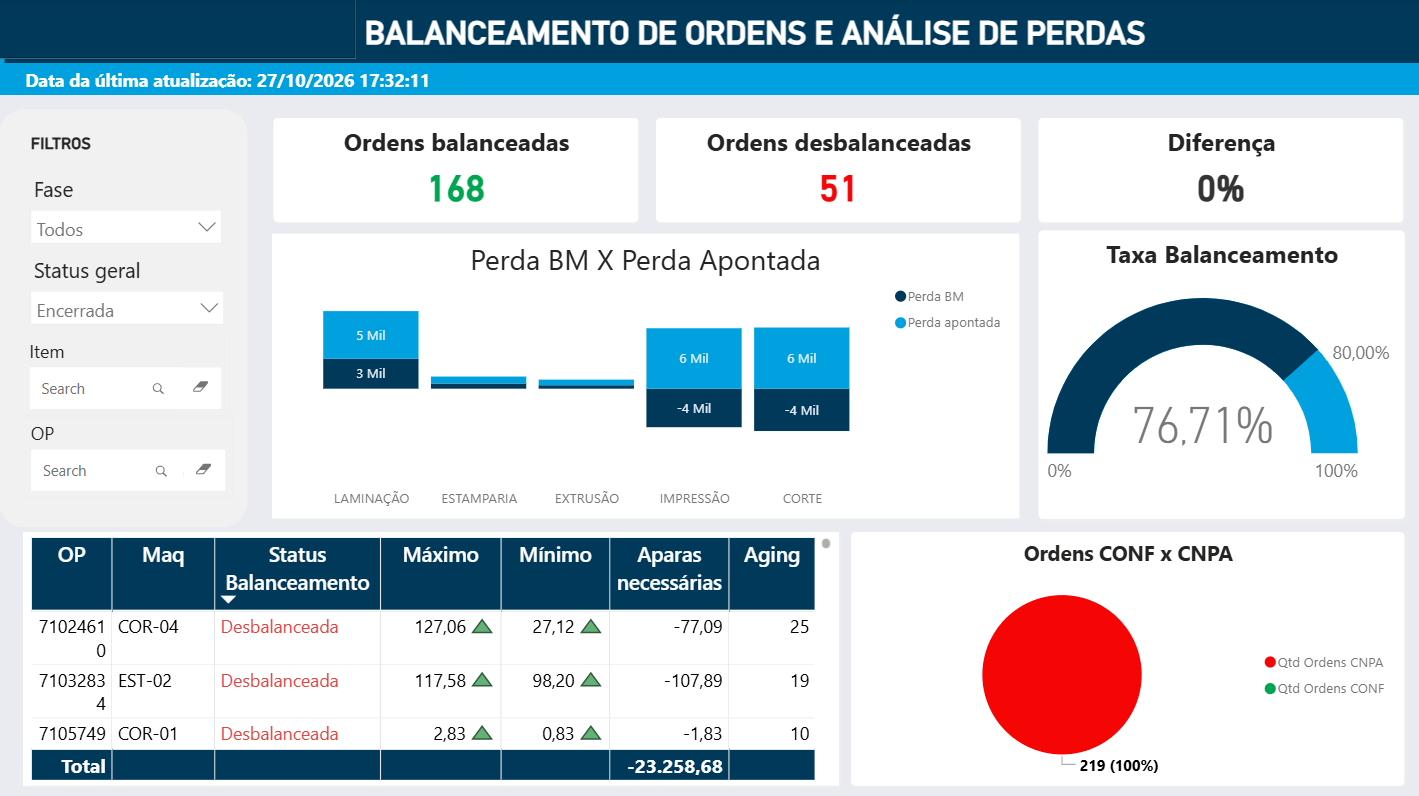

Layout of this report page (visuals, bound fields, positions):
{"tool":"powerbi","page":{"name":"Balanço de massa","canvas":[1280,720],"ordinal":3},"visuals":[{"type":"tableEx","fields":{"Values":["COOIS.OP","Máquinas.Maq","COOIS.Status Balanceamento","COOIS.MAX","COOIS.MIN","Medidas.Aparas necessário","COOIS.Aging início de produção"]},"box":[21.7,481.7,735,228.3],"z":0},{"type":"shape","box":[0,99.9,224.1,377],"z":1000},{"type":"columnChart","title":"Perda BM X Perda Apontada","fields":{"Category":["COOIS.Fase"],"Y":["Sum(COOIS.Perda BM)","Sum(COOIS.Perda apontada)"]},"box":[246.7,211.7,673.3,256.7],"z":2000},{"type":"slicer","fields":{"Values":["COOIS.Fase"]},"box":[16.7,154.4,196.8,72.7],"z":3000},{"type":"textFilter25A4896A83E0487089E2B90C9AE57C8A","fields":{"field":["COOIS.OP"]},"box":[21.2,375.5,187.8,72.7],"z":4000},{"type":"slicer","fields":{"Values":["COOIS.Status geral"]},"box":[16.2,227.1,198.7,74.3],"z":5000},{"type":"textFilter25A4896A83E0487089E2B90C9AE57C8A","fields":{"field":["COOIS.Item"]},"box":[20.3,301.4,186.5,74.3],"z":6000},{"type":"textbox","box":[21.6,113.5,146,40.6],"z":7000},{"type":"textbox","box":[167.6,9.5,1027.3,44.6],"z":8000},{"type":"advanceCardE03760C5AB684758B56AA29F9E6C257B","title":"Ordens balanceadas","fields":{"mainMeasure":["CountNonNull(COOIS.Status Balanceamento)"]},"box":[246.8,107.5,328.6,93.9],"z":9000},{"type":"advanceCardE03760C5AB684758B56AA29F9E6C257B","title":"Ordens desbalanceadas","fields":{"mainMeasure":["CountNonNull(COOIS.Status Balanceamento)"]},"box":[592.1,107.5,328.6,93.9],"z":10000},{"type":"advanceCardE03760C5AB684758B56AA29F9E6C257B","title":"Diferença","fields":{"mainMeasure":["Medidas.Dif"]},"box":[937.3,107.5,328.6,93.9],"z":11000},{"type":"pieChart","title":"Ordens CONF x CNPA","fields":{"Y":["Medidas.Qtd Ordens CNPA","Medidas.Qtd Ordens CONF"]},"box":[768.3,481.7,498.3,228.3],"z":12000},{"type":"gauge","fields":{"Y":["Medidas.Taxa Balanceamento"]},"box":[936.7,210,330,260],"z":13000},{"type":"cardVisual","title":"Data da última atualização","fields":{"Data":["Medidas.Data Ultima Atualizacao Texto"]},"box":[0,54.5,410.6,29],"z":14000},{"type":"shape","box":[0,0,321.2,54.4],"z":15000}]}

Visuals, with their boxes in screenshot pixels (x1, y1, x2, y2), scaled from the page's 1280x720 canvas onto the 1419x796 screenshot:
tableEx - COOIS.OP x Máquinas.Maq: [24,533,839,785]
shape: [0,110,248,527]
"Perda BM X Perda Apontada" columnChart: [273,234,1020,518]
slicer - COOIS.Fase: [19,171,237,251]
textFilter25A4896A83E0487089E2B90C9AE57C8A - COOIS.OP: [24,415,232,496]
slicer - COOIS.Status geral: [18,251,238,333]
textFilter25A4896A83E0487089E2B90C9AE57C8A - COOIS.Item: [23,333,229,415]
textbox: [24,125,186,170]
textbox: [186,11,1325,60]
"Ordens balanceadas" advanceCardE03760C5AB684758B56AA29F9E6C257B: [274,119,638,223]
"Ordens desbalanceadas" advanceCardE03760C5AB684758B56AA29F9E6C257B: [656,119,1021,223]
"Diferença" advanceCardE03760C5AB684758B56AA29F9E6C257B: [1039,119,1403,223]
"Ordens CONF x CNPA" pieChart: [852,533,1404,785]
gauge - Medidas.Taxa Balanceamento: [1038,232,1404,520]
"Data da última atualização" cardVisual: [0,60,455,92]
shape: [0,0,356,60]
